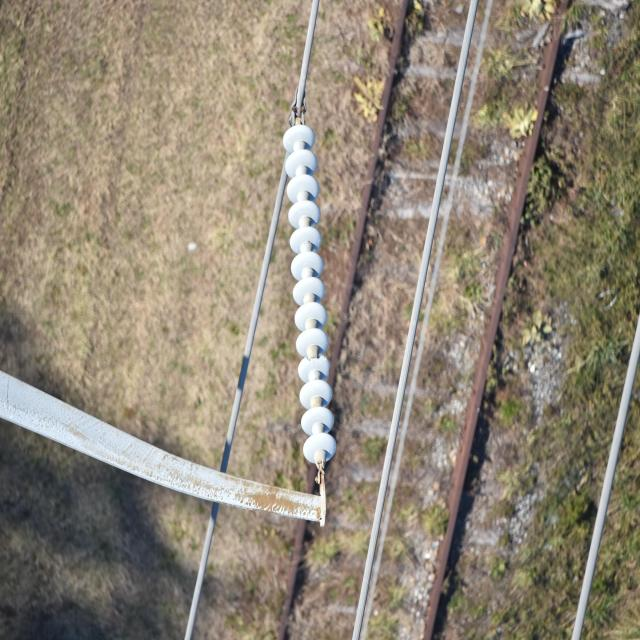broken: (303, 353, 331, 379)
insulator: (282, 124, 338, 464)
